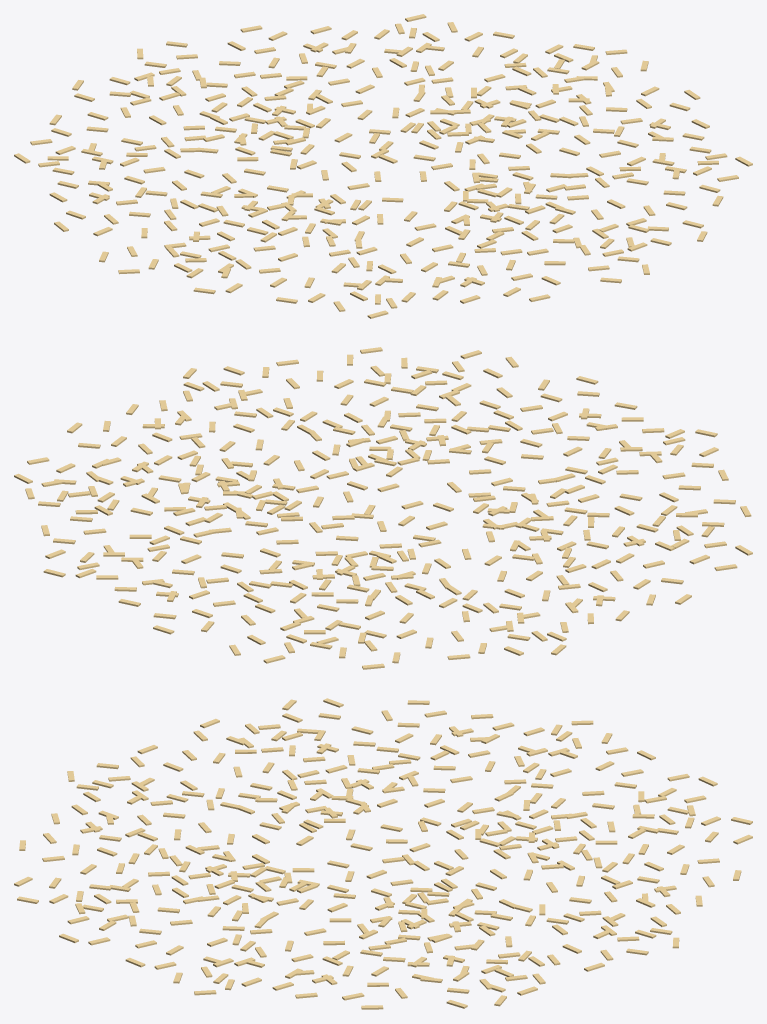
Rendered from emmental.glb.
3 views of the same model, one above another, from view 1: azimuth 30°, elevation 25°; view 2: azimuth 150°, elevation 25°; view 3: azimuth 270°, elevation 25° (orthographic). The views are drawn at different scales.
Visible parts, largest first — view 1: mozzarella1; view 2: mozzarella1; view 3: mozzarella1.
Boxes of the visible parts, box(x1,y1,x2,y2) form: mozzarella1: box(14, 14, 752, 318); mozzarella1: box(14, 347, 752, 669); mozzarella1: box(14, 698, 752, 1009).
Bounding box in the file's own units: 0.3394 × 0.00086 × 0.3421.
